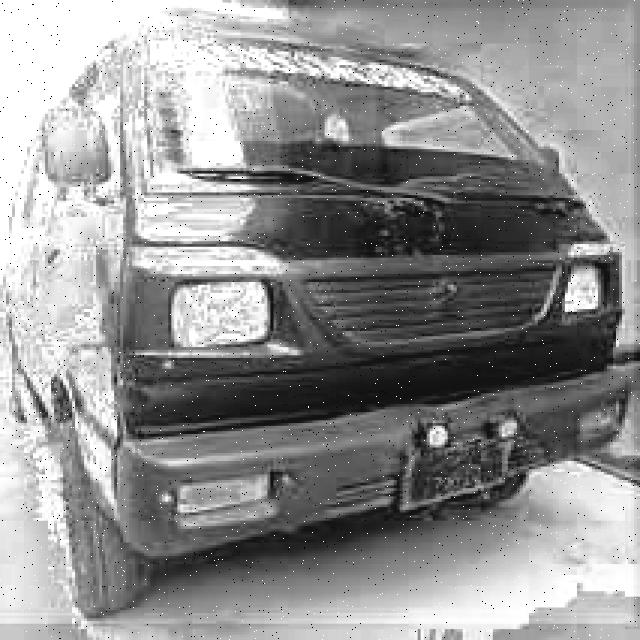LCV: (0, 8, 637, 627)
